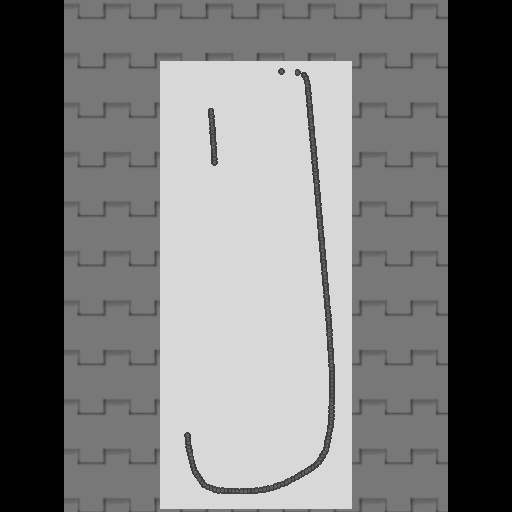Defect: (181, 164, 220, 435)
